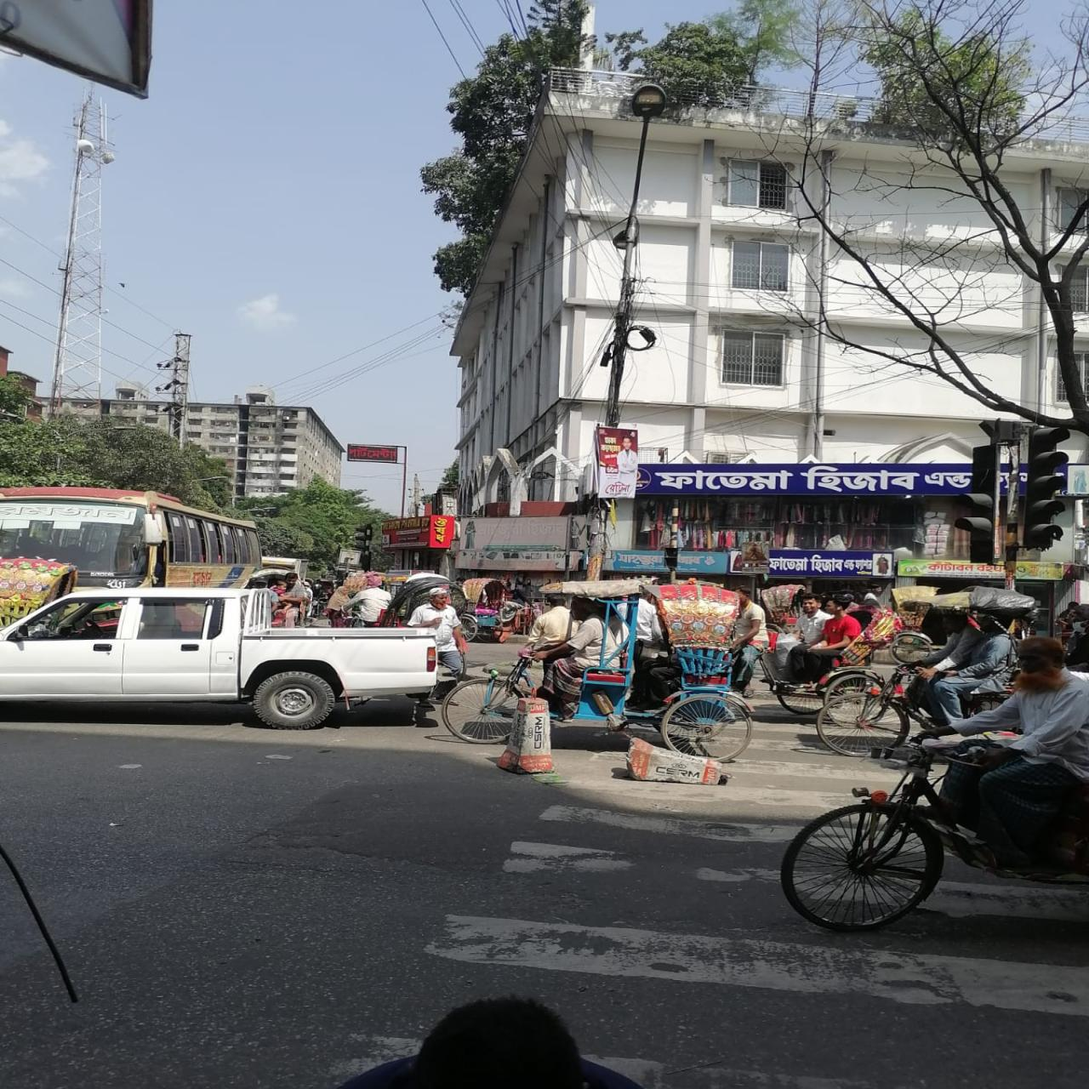person: (409, 588, 466, 671), (321, 586, 353, 626)
